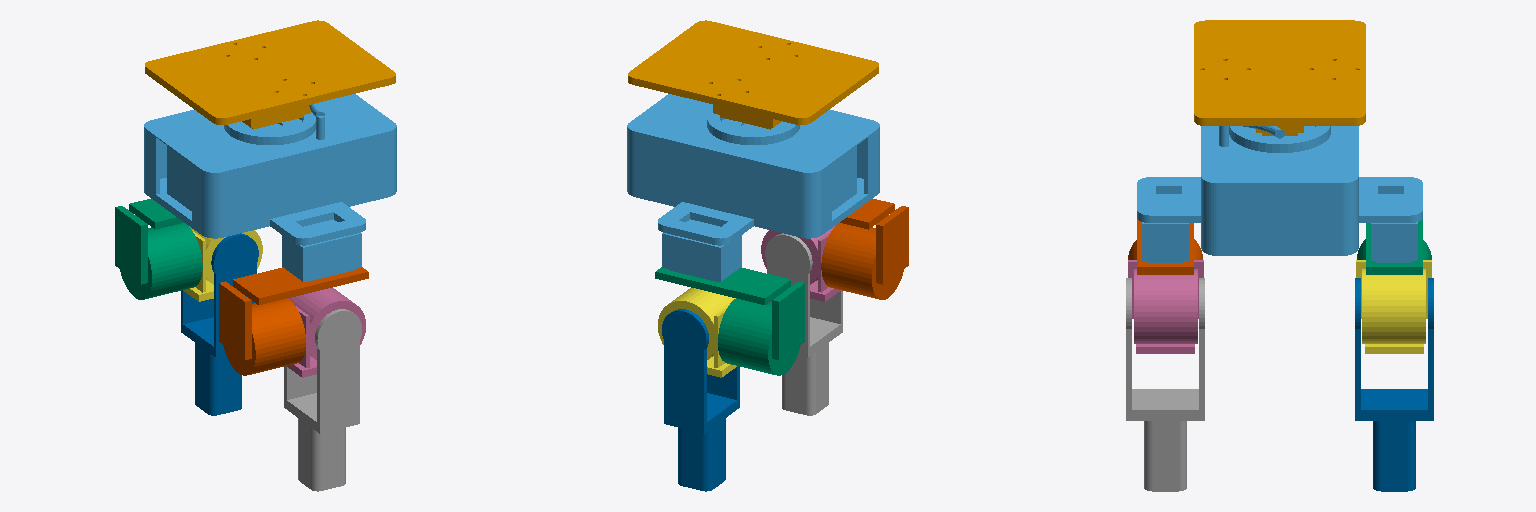
The robot description file, URDF, robot "cocomi_pelvis_v1_2":
<?xml version="1.0"?>
<!-- pelvis-v1.1 (PLACEHOLDER dims/masses). torso_link = torso-v1.3-low upper body (+waist adapter) lumped. -->
<robot name="cocomi_pelvis_v1_2">
  <link name="torso_link"><inertial><origin xyz="0.0094 0.0000 0.1130"/><mass value="2.6630"/><inertia ixx="1e-4" iyy="1e-4" izz="1e-4" ixy="0" ixz="0" iyz="0"/></inertial>
    <visual><origin xyz="0.0000 0.0000 0.0000"/><geometry><mesh filename="waist_adapter.stl" scale="0.001 0.001 0.001"/></geometry></visual>
    <visual><origin xyz="0.0000 0.0000 0.0000"/><geometry><mesh filename="waist_servo_STS3215.stl" scale="0.001 0.001 0.001"/></geometry></visual>
  </link>
  <link name="pelvis_link"><inertial><origin xyz="0.0012 -0.0006 -0.0394"/><mass value="1.0231"/><inertia ixx="1e-4" iyy="1e-4" izz="1e-4" ixy="0" ixz="0" iyz="0"/></inertial>
    <visual><origin xyz="0.0000 0.0000 0.0530"/><geometry><mesh filename="waist_bearing.stl" scale="0.001 0.001 0.001"/></geometry></visual>
    <visual><origin xyz="0.0000 0.0000 0.0530"/><geometry><mesh filename="pelvis_block.stl" scale="0.001 0.001 0.001"/></geometry></visual>
    <visual><origin xyz="0.0000 0.0000 0.0530"/><geometry><mesh filename="pelvis_battery_pack.stl" scale="0.001 0.001 0.001"/></geometry></visual>
    <visual><origin xyz="0.0000 0.0000 0.0530"/><geometry><mesh filename="pelvis_battery_strap.stl" scale="0.001 0.001 0.001"/></geometry></visual>
    <visual><origin xyz="0.0000 0.0000 0.0530"/><geometry><mesh filename="waist_cable_loop.stl" scale="0.001 0.001 0.001"/></geometry></visual>
    <visual><origin xyz="0.0000 0.0000 0.0530"/><geometry><mesh filename="hip_yaw_servo_L.stl" scale="0.001 0.001 0.001"/></geometry></visual>
    <visual><origin xyz="0.0000 0.0000 0.0530"/><geometry><mesh filename="hip_yaw_mount_L.stl" scale="0.001 0.001 0.001"/></geometry></visual>
    <visual><origin xyz="0.0000 0.0000 0.0530"/><geometry><mesh filename="hip_yaw_servo_R.stl" scale="0.001 0.001 0.001"/></geometry></visual>
    <visual><origin xyz="0.0000 0.0000 0.0530"/><geometry><mesh filename="hip_yaw_mount_R.stl" scale="0.001 0.001 0.001"/></geometry></visual>
  </link>
  <joint name="waist_yaw" type="revolute"><parent link="torso_link"/><child link="pelvis_link"/><origin xyz="0.0000 0.0000 -0.0530"/><axis xyz="0 0 1"/><limit lower="-0.79" upper="0.79" effort="2.9" velocity="6"/></joint>
  <link name="hip_yaw_link_L"><inertial><origin xyz="-0.0510 0.0000 -0.0764"/><mass value="0.2820"/><inertia ixx="1e-4" iyy="1e-4" izz="1e-4" ixy="0" ixz="0" iyz="0"/></inertial>
    <visual><origin xyz="0.0000 -0.0800 0.1160"/><geometry><mesh filename="hip_yaw_yoke_L.stl" scale="0.001 0.001 0.001"/></geometry></visual>
    <visual><origin xyz="0.0000 -0.0800 0.1160"/><geometry><mesh filename="hip_roll_act_L.stl" scale="0.001 0.001 0.001"/></geometry></visual>
  </link>
  <link name="hip_roll_link_L"><inertial><origin xyz="0.0513 0.0000 -0.0007"/><mass value="0.2704"/><inertia ixx="1e-4" iyy="1e-4" izz="1e-4" ixy="0" ixz="0" iyz="0"/></inertial>
    <visual><origin xyz="0.0520 -0.0800 0.1950"/><geometry><mesh filename="hip_roll_bracket_L.stl" scale="0.001 0.001 0.001"/></geometry></visual>
    <visual><origin xyz="0.0520 -0.0800 0.1950"/><geometry><mesh filename="hip_pitch_act_L.stl" scale="0.001 0.001 0.001"/></geometry></visual>
  </link>
  <link name="thigh_stub_L"><inertial><origin xyz="0.0000 -0.0000 -0.0792"/><mass value="0.0561"/><inertia ixx="1e-4" iyy="1e-4" izz="1e-4" ixy="0" ixz="0" iyz="0"/></inertial>
    <visual><origin xyz="0.0000 -0.0800 0.1950"/><geometry><mesh filename="thigh_stub_L.stl" scale="0.001 0.001 0.001"/></geometry></visual>
  </link>
  <joint name="hip_yaw_L" type="revolute"><parent link="pelvis_link"/><child link="hip_yaw_link_L"/><origin xyz="0.0000 0.0800 -0.0630"/><axis xyz="0 0 1"/><limit lower="-0.52" upper="0.52" effort="2.9" velocity="6"/></joint>
  <joint name="hip_roll_L" type="revolute"><parent link="hip_yaw_link_L"/><child link="hip_roll_link_L"/><origin xyz="-0.0520 0.0000 -0.0790"/><axis xyz="1 0 0"/><limit lower="-0.52" upper="0.52" effort="12" velocity="6"/></joint>
  <joint name="hip_pitch_L" type="revolute"><parent link="hip_roll_link_L"/><child link="thigh_stub_L"/><origin xyz="0.0520 0.0000 0.0000"/><axis xyz="0 1 0"/><limit lower="-1.57" upper="0.52" effort="12" velocity="6"/></joint>
  <link name="hip_yaw_link_R"><inertial><origin xyz="-0.0510 0.0000 -0.0764"/><mass value="0.2820"/><inertia ixx="1e-4" iyy="1e-4" izz="1e-4" ixy="0" ixz="0" iyz="0"/></inertial>
    <visual><origin xyz="0.0000 0.0800 0.1160"/><geometry><mesh filename="hip_yaw_yoke_R.stl" scale="0.001 0.001 0.001"/></geometry></visual>
    <visual><origin xyz="0.0000 0.0800 0.1160"/><geometry><mesh filename="hip_roll_act_R.stl" scale="0.001 0.001 0.001"/></geometry></visual>
  </link>
  <link name="hip_roll_link_R"><inertial><origin xyz="0.0513 -0.0000 -0.0007"/><mass value="0.2704"/><inertia ixx="1e-4" iyy="1e-4" izz="1e-4" ixy="0" ixz="0" iyz="0"/></inertial>
    <visual><origin xyz="0.0520 0.0800 0.1950"/><geometry><mesh filename="hip_roll_bracket_R.stl" scale="0.001 0.001 0.001"/></geometry></visual>
    <visual><origin xyz="0.0520 0.0800 0.1950"/><geometry><mesh filename="hip_pitch_act_R.stl" scale="0.001 0.001 0.001"/></geometry></visual>
  </link>
  <link name="thigh_stub_R"><inertial><origin xyz="0.0000 0.0000 -0.0792"/><mass value="0.0561"/><inertia ixx="1e-4" iyy="1e-4" izz="1e-4" ixy="0" ixz="0" iyz="0"/></inertial>
    <visual><origin xyz="0.0000 0.0800 0.1950"/><geometry><mesh filename="thigh_stub_R.stl" scale="0.001 0.001 0.001"/></geometry></visual>
  </link>
  <joint name="hip_yaw_R" type="revolute"><parent link="pelvis_link"/><child link="hip_yaw_link_R"/><origin xyz="0.0000 -0.0800 -0.0630"/><axis xyz="0 0 1"/><limit lower="-0.52" upper="0.52" effort="2.9" velocity="6"/></joint>
  <joint name="hip_roll_R" type="revolute"><parent link="hip_yaw_link_R"/><child link="hip_roll_link_R"/><origin xyz="-0.0520 0.0000 -0.0790"/><axis xyz="1 0 0"/><limit lower="-0.52" upper="0.52" effort="12" velocity="6"/></joint>
  <joint name="hip_pitch_R" type="revolute"><parent link="hip_roll_link_R"/><child link="thigh_stub_R"/><origin xyz="0.0520 0.0000 0.0000"/><axis xyz="0 1 0"/><limit lower="-1.57" upper="0.52" effort="12" velocity="6"/></joint>
</robot>

--- What the picture shows (computed from the rendered views, not written in the file) ---
3 views of the same robot in one strip: view 1: azimuth 30°, elevation 25°; view 2: azimuth 150°, elevation 25°; view 3: azimuth 270°, elevation 25° (orthographic).
Robot: cocomi_pelvis_v1_2 — 8 links, 7 joints (7 revolute); root link torso_link; default pose: all joints at 0.
Links seen in each view (by area): view 1: pelvis_link, torso_link, thigh_stub_R, hip_yaw_link_R, hip_yaw_link_L, thigh_stub_L, hip_roll_link_R, hip_roll_link_L; view 2: pelvis_link, torso_link, thigh_stub_L, hip_yaw_link_L, hip_yaw_link_R, thigh_stub_R, hip_roll_link_L, hip_roll_link_R; view 3: pelvis_link, torso_link, thigh_stub_L, thigh_stub_R, hip_roll_link_L, hip_roll_link_R, hip_yaw_link_L, hip_yaw_link_R.
Boxes of the visible links, x1=… form: pelvis_link: x1=144, y1=94, x2=396, y2=281; torso_link: x1=145, y1=20, x2=395, y2=129; thigh_stub_R: x1=284, y1=309, x2=361, y2=491; hip_yaw_link_R: x1=219, y1=267, x2=368, y2=375; hip_yaw_link_L: x1=115, y1=199, x2=202, y2=299; thigh_stub_L: x1=181, y1=233, x2=258, y2=415; hip_roll_link_R: x1=287, y1=288, x2=365, y2=377; hip_roll_link_L: x1=183, y1=226, x2=262, y2=301; pelvis_link: x1=627, y1=94, x2=879, y2=281; torso_link: x1=628, y1=20, x2=878, y2=129; thigh_stub_L: x1=662, y1=309, x2=739, y2=491; hip_yaw_link_L: x1=655, y1=267, x2=804, y2=375; hip_yaw_link_R: x1=821, y1=199, x2=908, y2=299; thigh_stub_R: x1=765, y1=233, x2=842, y2=415; hip_roll_link_L: x1=658, y1=288, x2=736, y2=377; hip_roll_link_R: x1=761, y1=226, x2=840, y2=301; pelvis_link: x1=1137, y1=126, x2=1422, y2=262; torso_link: x1=1194, y1=20, x2=1365, y2=135; thigh_stub_L: x1=1355, y1=278, x2=1433, y2=491; thigh_stub_R: x1=1126, y1=278, x2=1204, y2=491; hip_roll_link_L: x1=1356, y1=260, x2=1431, y2=353; hip_roll_link_R: x1=1128, y1=260, x2=1203, y2=353; hip_yaw_link_L: x1=1357, y1=219, x2=1431, y2=274; hip_yaw_link_R: x1=1128, y1=219, x2=1202, y2=274.
Size in the robot's own frame: 0.172 by 0.215 by 0.319 metres.
21 mesh visuals loaded from 21 distinct referenced files (21 binary STL).
